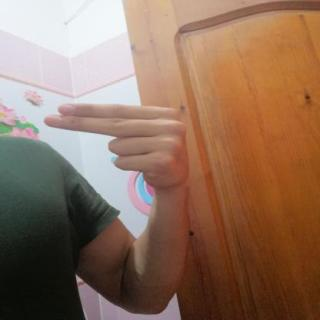AYN: (32, 95, 205, 197)
